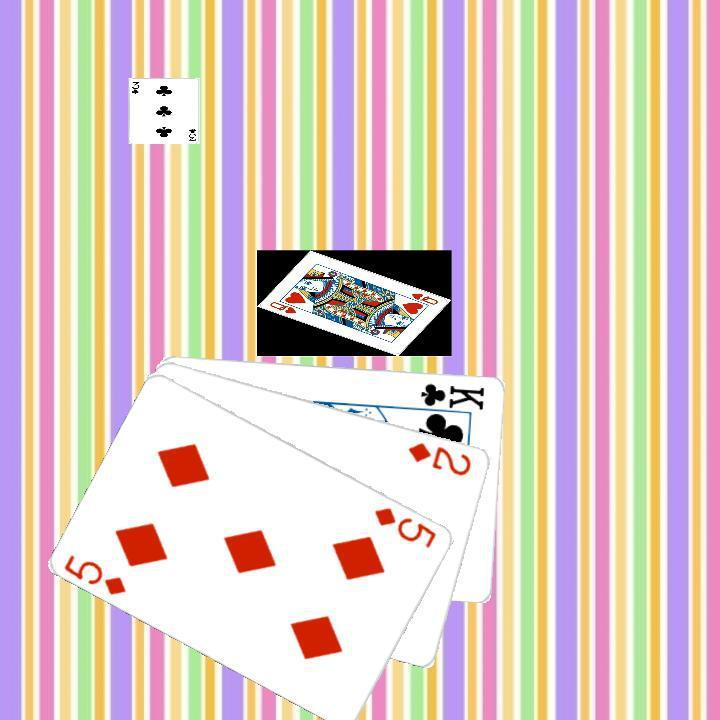2: (404, 438, 474, 478)
5: (370, 503, 439, 550), (60, 550, 129, 597)
K: (409, 378, 487, 417)
